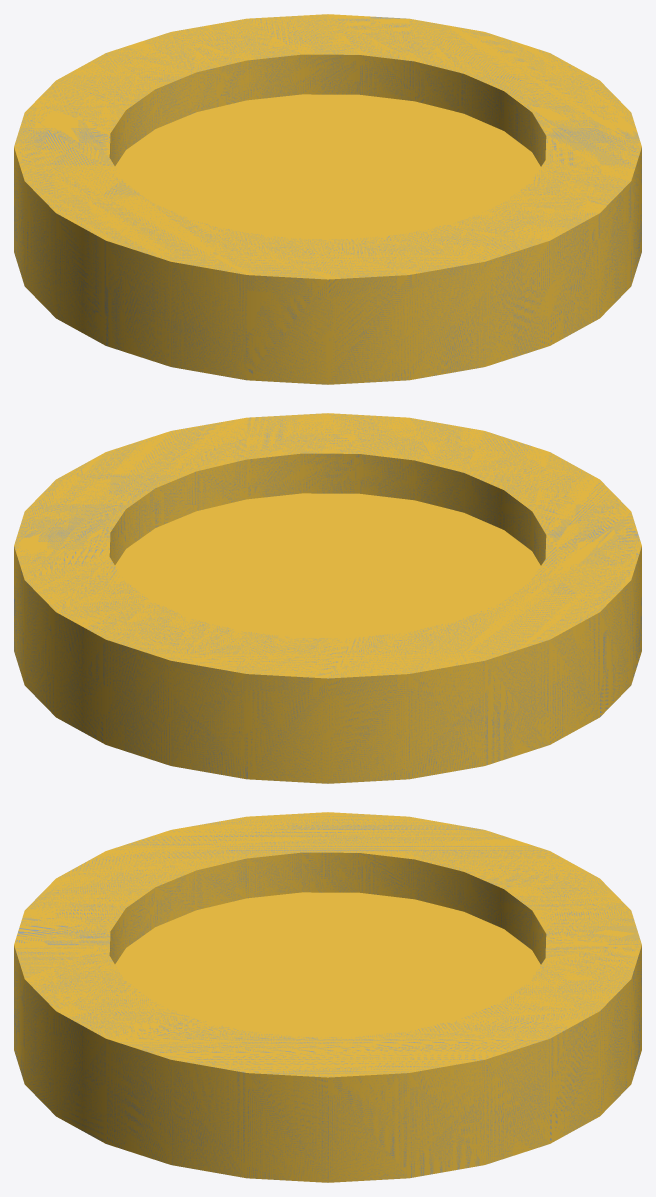
Rendered from YellowPuc.dae.
The picture shows the model from 3 angles, top to bottom: view 1: azimuth 30°, elevation 25°; view 2: azimuth 150°, elevation 25°; view 3: azimuth 270°, elevation 25°; orthographic projection.
Parts seen in each view (by area): view 1: SketchUp (×3); view 2: SketchUp (×3); view 3: SketchUp (×3).
Boxes of the visible parts, box(x1,y1,x2,y2) form: SketchUp (×3): box(14, 14, 641, 384); SketchUp (×3): box(14, 413, 641, 783); SketchUp (×3): box(14, 812, 641, 1182).
Bounding box in the file's own units: 78.74 × 78.74 × 14.57.
